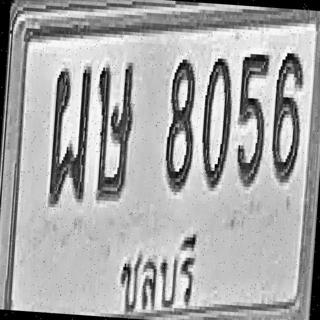A28: (46, 64, 92, 206)
A39: (90, 57, 137, 202)
N00: (198, 54, 235, 188)
N05: (233, 49, 270, 188)
N06: (269, 49, 305, 183)
N08: (163, 53, 199, 191)
P13: (111, 227, 204, 320)
